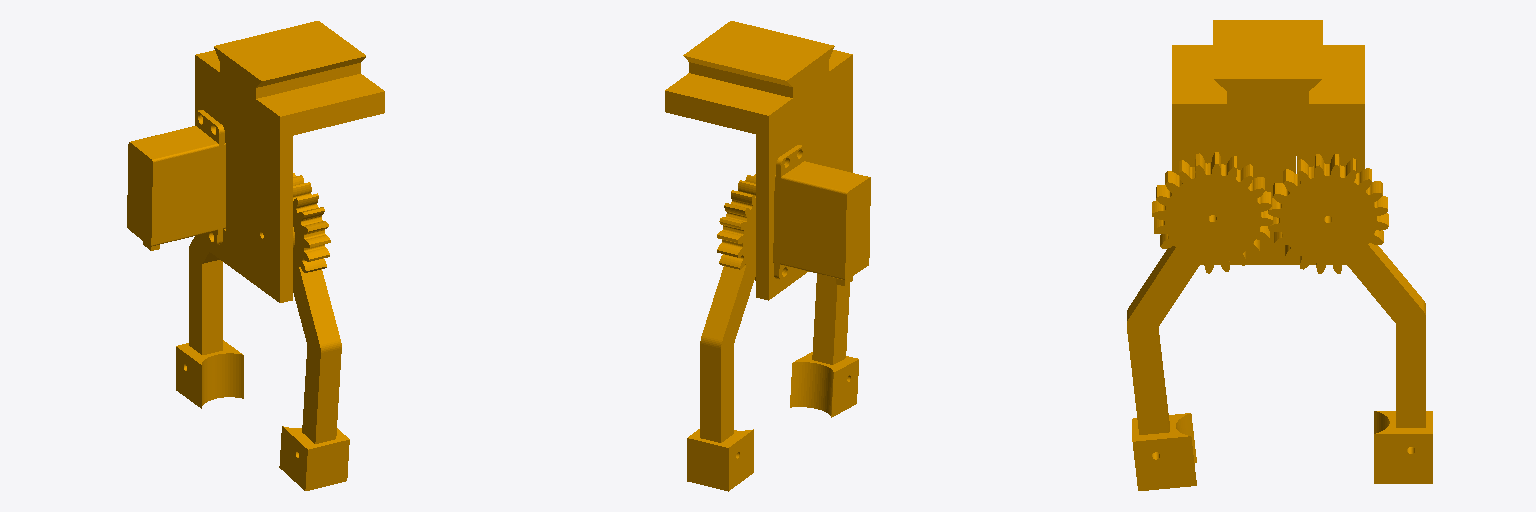
The robot description file, URDF, robot "my_gripper":
<?xml version="1.0" encoding="utf-8"?>
<robot  name="my_gripper">
 
  <link name="gripper_base_link">
    <visual>
      <origin
        xyz="0 0 0"
        rpy="0 0 0"/>
      <geometry>
       <!-- <box size="1 1 1"/> -->
       <mesh filename="package://end_effector/meshes/GripperOpen.stl" scale="0.001 0.001 0.001"/>
      
      </geometry>
      <!-- <material name="grey">
        <color rgba="0.5 0.5 0.5 1"/>
      </material> -->
    </visual>
   
    <collision>
     <origin
        xyz="0 0 0"
        rpy="0 0 0"/>
      <geometry>
        <box size="0.06 0.1 0.03" />
      </geometry>
    </collision>
    <!-- <inertial>
      <mass value="0.1" />
      <inertia ixx="0.001" ixy="0" ixz="0" iyy="0.001" iyz="0" izz="0.001" />
    </inertial> -->
  </link>

  <!-- <link name="left_claw_link">
    <visual>
    
      <origin xyz="0.035 0 0" rpy="0 0 0"/>
      <geometry>
        <box size="0.07 0.015 0.02" />
      </geometry>
      <material name="blue">
        <color rgba="0.1 0.1 0.8 1"/>
      </material>
    </visual>
    <collision>
      <origin xyz="0.035 0 0" rpy="0 0 0"/>
      <geometry>
        <box size="0.07 0.015 0.02" />
      </geometry>
    </collision>
    <inertial>
      <mass value="0.01" />
      <inertia ixx="0.001" ixy="0" ixz="0" iyy="0.001" iyz="0" izz="0.001" />
    </inertial>
  </link> -->

 
  <!-- <link name="right_claw_link">
    <visual>
      <origin xyz="0.035 0 0" rpy="0 0 0"/>
      <geometry>
        <box size="0.07 0.015 0.02" />
      </geometry>
      <material name="blue"/>
    </visual>
    <collision>
      <origin xyz="0.035 0 0" rpy="0 0 0"/>
      <geometry>
        <box size="0.07 0.015 0.02" />
      </geometry>
    </collision>
    <inertial>
      <mass value="0.01" />
      <inertia ixx="0.001" ixy="0" ixz="0" iyy="0.001" iyz="0" izz="0.001" />
    </inertial>
  </link> -->



 
  <!-- <joint name="left_claw_joint" type="revolute">
    <parent link="gripper_base_link"/>
    <child link="left_claw_link"/>
   
    <origin xyz="0 0.04 0" rpy="0 0 0"/>
    
    <axis xyz="0 0 1"/>
   
    <limit lower="-0.4" upper="1.0" effort="100" velocity="0.5"/>
  </joint>

  
  <joint name="right_claw_joint" type="revolute">
    <parent link="gripper_base_link"/>
    <child link="right_claw_link"/>
   
    <origin xyz="0 -0.04 0" rpy="0 0 0"/>
   
    <axis xyz="0 0 -1"/> 

    
    <limit lower="-0.4" upper="1.0" effort="100" velocity="0.5"/>

  
    <mimic joint="left_claw_joint" multiplier="1.0" offset="0"/>
  </joint> -->

</robot>

--- What the picture shows (computed from the rendered views, not written in the file) ---
The picture shows the robot from 3 angles, left to right: view 1: azimuth 30°, elevation 25°; view 2: azimuth 150°, elevation 25°; view 3: azimuth 270°, elevation 25°; orthographic projection.
Model my_gripper with 1 links and 0 joints (none), rooted at gripper_base_link, posed all joints at 0.
Links seen in each view (by area): view 1: gripper_base_link; view 2: gripper_base_link; view 3: gripper_base_link.
Link boxes in pixels (bbox=[...]): gripper_base_link: bbox=[127, 21, 384, 490]; gripper_base_link: bbox=[665, 21, 870, 491]; gripper_base_link: bbox=[1127, 20, 1432, 490].
Bounding box of the posed robot: 0.0847 × 0.1112 × 0.1769 m (x, y, z).
Meshes: 1 distinct files referenced, 1 mesh visuals loaded (1 binary STL).